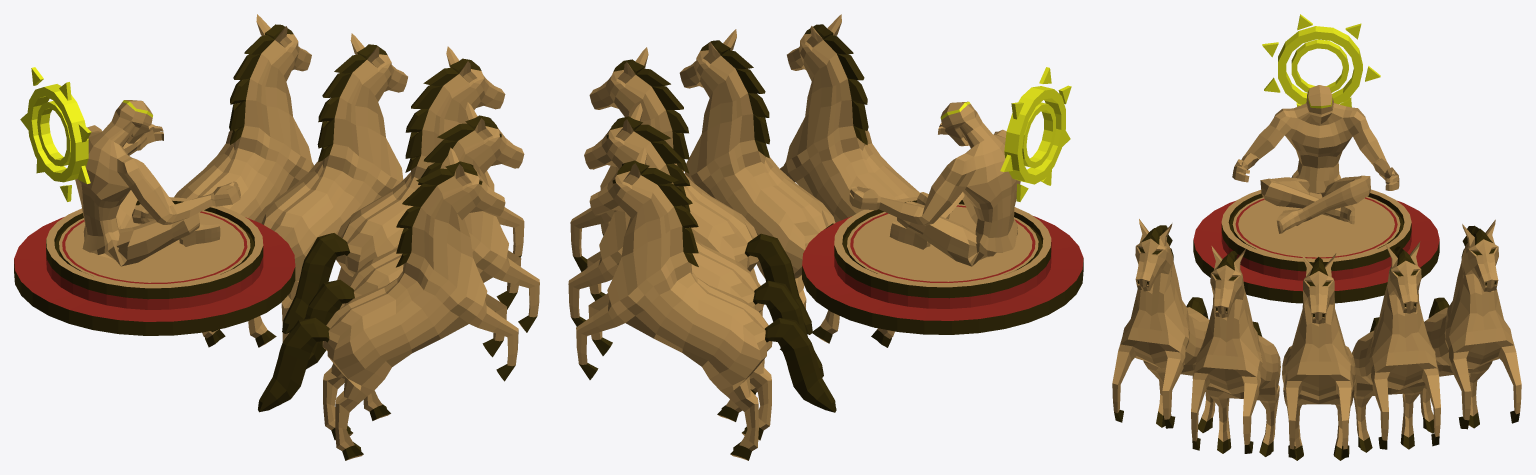
Rendered from god final.fbx.
3 views of the same model, side by side, from view 1: azimuth 30°, elevation 25°; view 2: azimuth 150°, elevation 25°; view 3: azimuth 270°, elevation 25° (orthographic). The views are drawn at different scales.
Visible parts, largest first — view 1: Cube.004, Cylinder, Cube.001, Cube.006, Cube.002, Cube, Cube.003, Cylinder.002; view 2: Cube.002, Cylinder, Cube.003, Cube.004, Cube.006, Cube, Cube.001, Cylinder.002; view 3: Cylinder, Cube.006, Cube.003, Cube.001, Cube.002, Cube.004, Cube, Cylinder.002.
Boxes of the visible parts, x1,y1,x2,y2 form: Cube.004: (258,147,518,460); Cylinder: (14,197,295,335); Cube.001: (211,33,407,347); Cube.006: (75,100,240,266); Cube.002: (174,14,313,347); Cube: (282,46,524,333); Cube.003: (305,102,539,420); Cylinder.002: (20,67,91,201); Cube.002: (576,146,836,460); Cylinder: (802,196,1083,334); Cube.003: (679,29,875,349); Cube.004: (780,14,919,347); Cube.006: (849,101,1020,266); Cube: (570,47,812,334); Cube.001: (568,103,823,421); Cylinder.002: (1000,67,1071,201); Cylinder: (1193,189,1439,303); Cube.006: (1232,85,1399,233); Cube.003: (1191,246,1280,456); Cube.001: (1352,241,1440,452); Cube.002: (1420,219,1521,433); Cube.004: (1112,219,1215,432); Cube: (1282,253,1355,460); Cylinder.002: (1262,14,1380,107).
Size of the model in its own units: 743 by 552 by 631.
